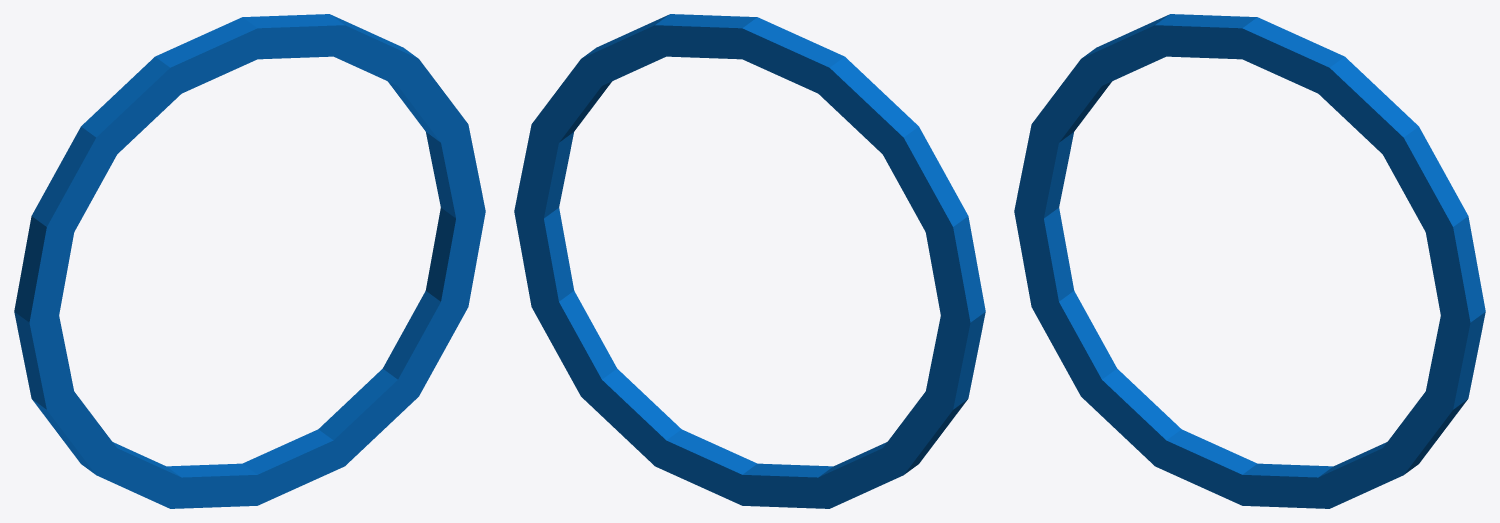
Rendered from radio.obj.
3 views of the same model, side by side, from view 1: azimuth 30°, elevation 25°; view 2: azimuth 150°, elevation 25°; view 3: azimuth 330°, elevation 25° (orthographic).
Parts seen in each view (by area): view 1: azul; view 2: azul; view 3: azul.
Part boxes in pixels (x1,y1,x2,y2): azul: [14, 14, 485, 508]; azul: [514, 14, 985, 508]; azul: [1014, 14, 1485, 508].
Bounding box in the file's own units: 2 × 2 × 0.1161.
